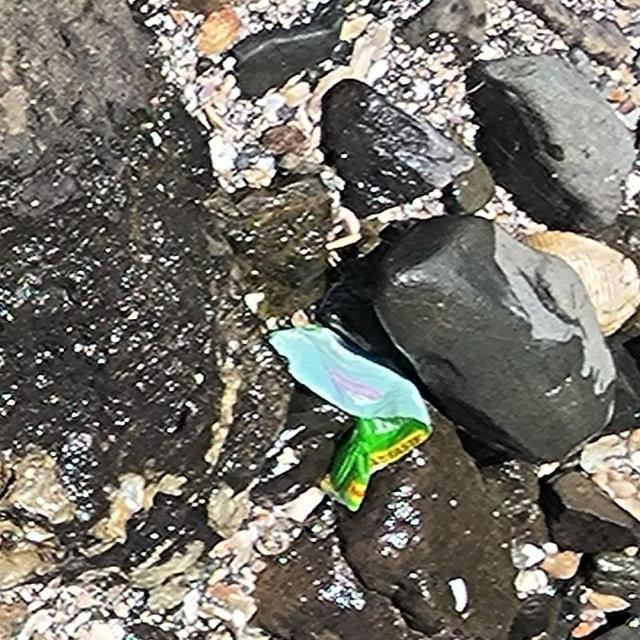litter: (266, 326, 435, 512)
